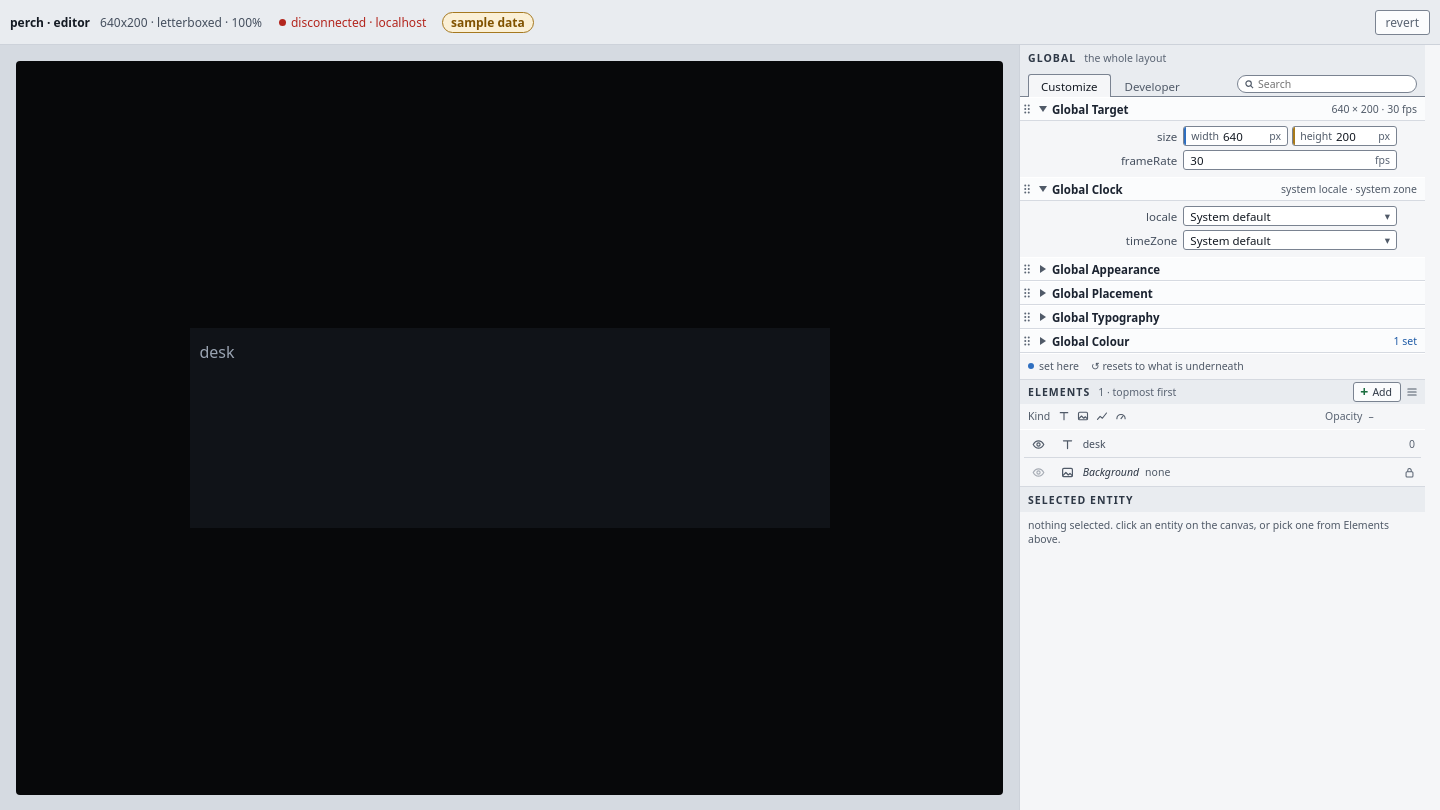
Test: the dirty state › answers a save request it had to refuse with false, and writes nothing
Click the button "desk 0" at (1067, 444), box x1=1052 y1=430 x2=1421 y2=458
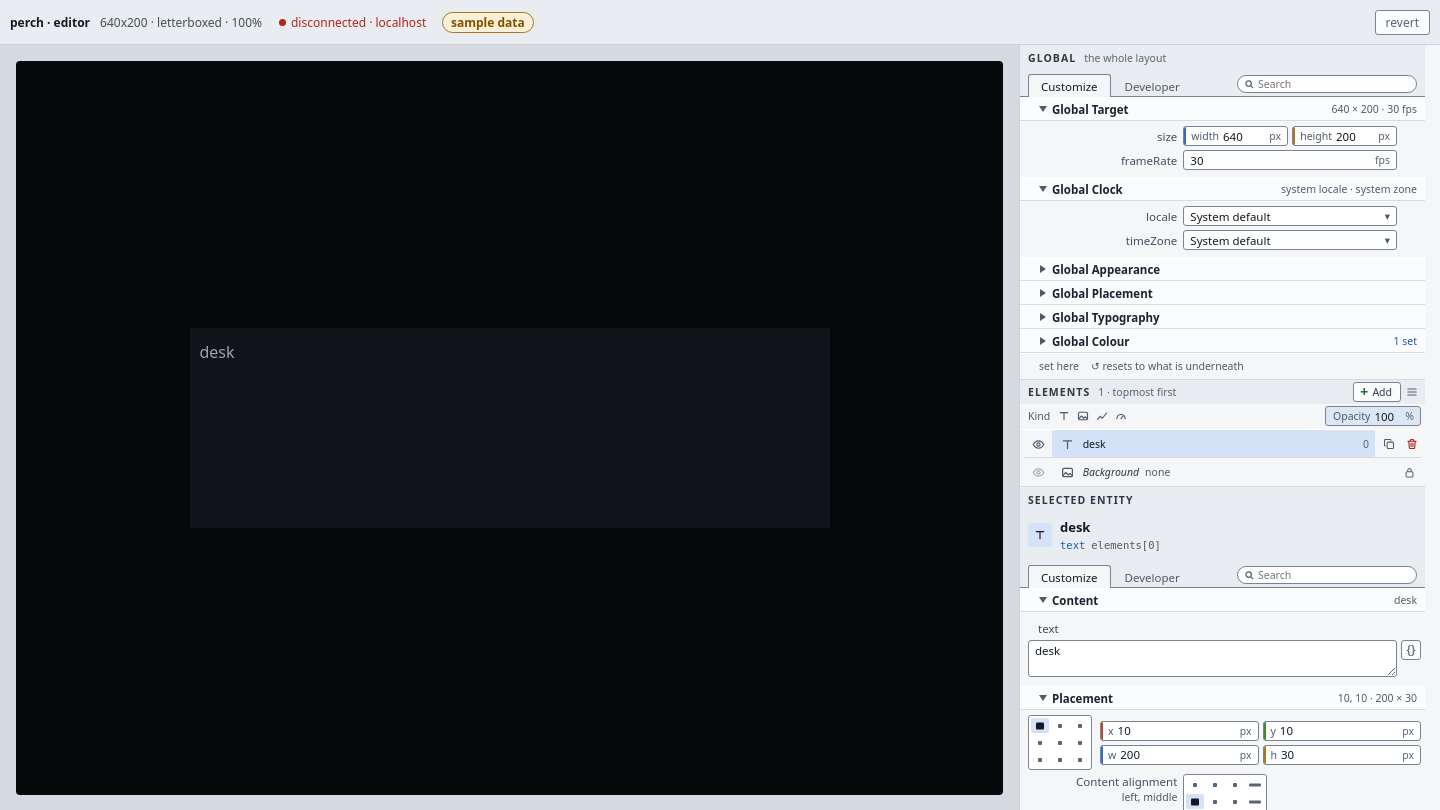
Replace the text in the number field labelled "w" with "-5" at (1179, 755), box x1=1118 y1=746 x2=1240 y2=764
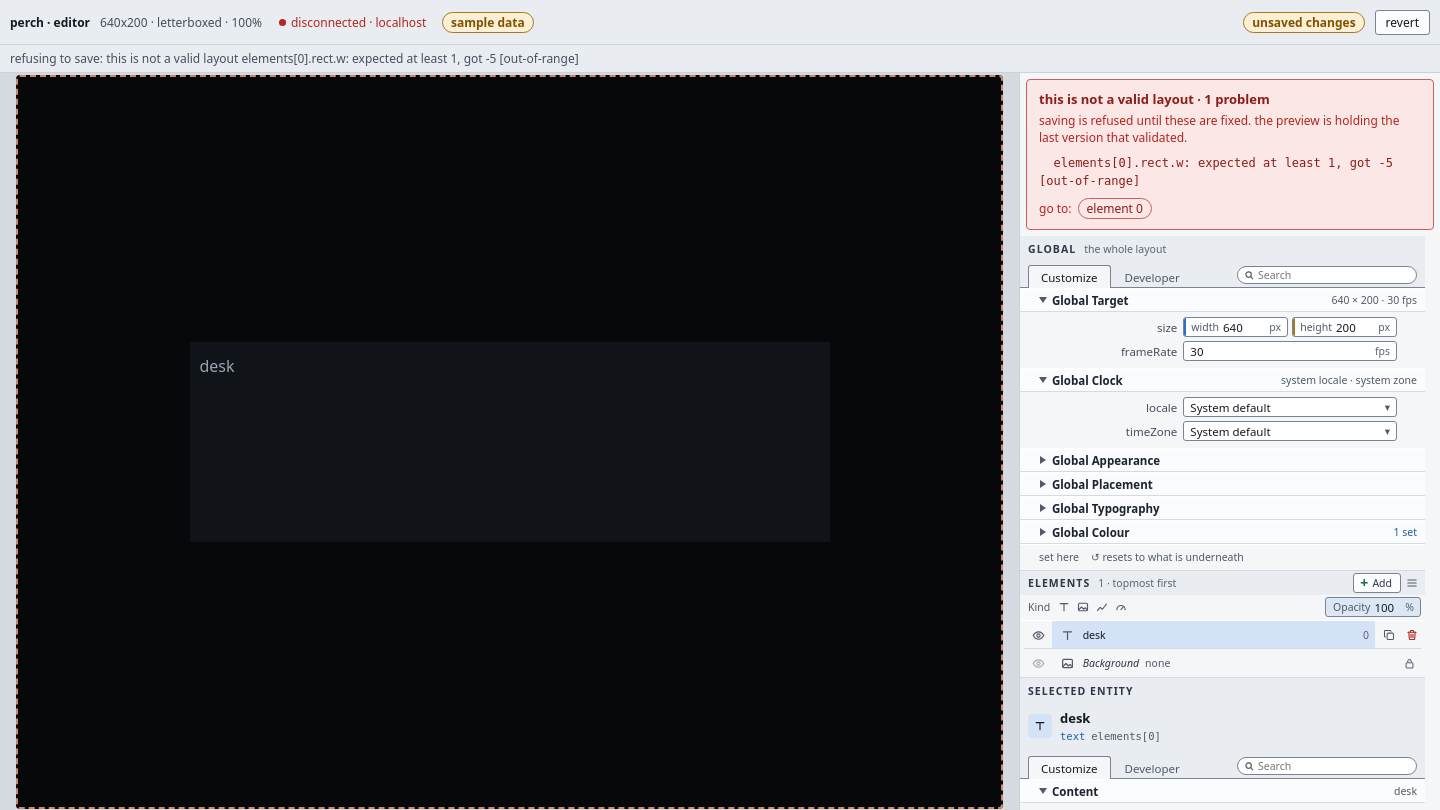
Expected: the text "refusing to save" is shown, x1=10 y1=50 x2=579 y2=67
